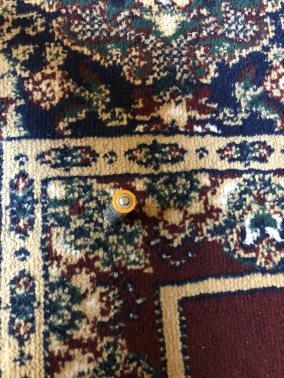battery: (101, 187, 138, 230)
